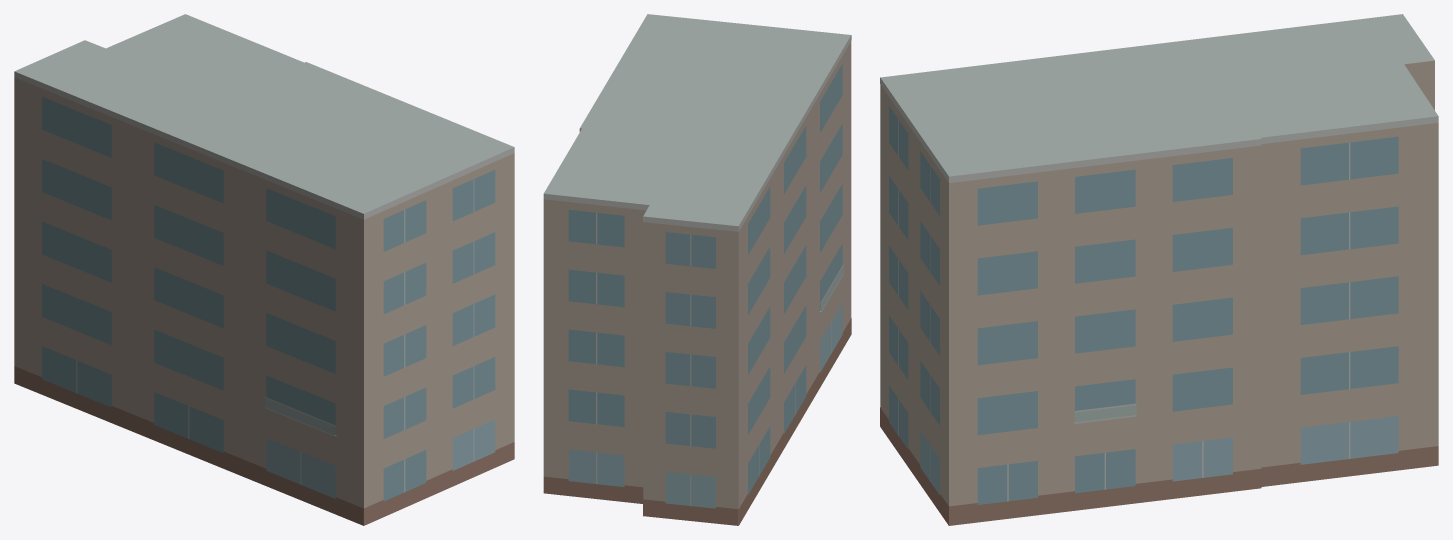
File: survey-upis-32881130.glb
The picture shows the model from 3 angles, left to right: view 1: azimuth 30°, elevation 25°; view 2: azimuth 150°, elevation 25°; view 3: azimuth 270°, elevation 25°; orthographic projection. The views are drawn at different scales.
Visible parts, largest first — view 1: survey-upis-32881130.tmp; view 2: survey-upis-32881130.tmp; view 3: survey-upis-32881130.tmp.
Part boxes in pixels (box(x1,y1,x2,y2)): survey-upis-32881130.tmp: box(14, 14, 514, 525); survey-upis-32881130.tmp: box(543, 14, 851, 525); survey-upis-32881130.tmp: box(880, 14, 1438, 525).
Size of the model in its own units: 12.99 by 13 by 18.85.
